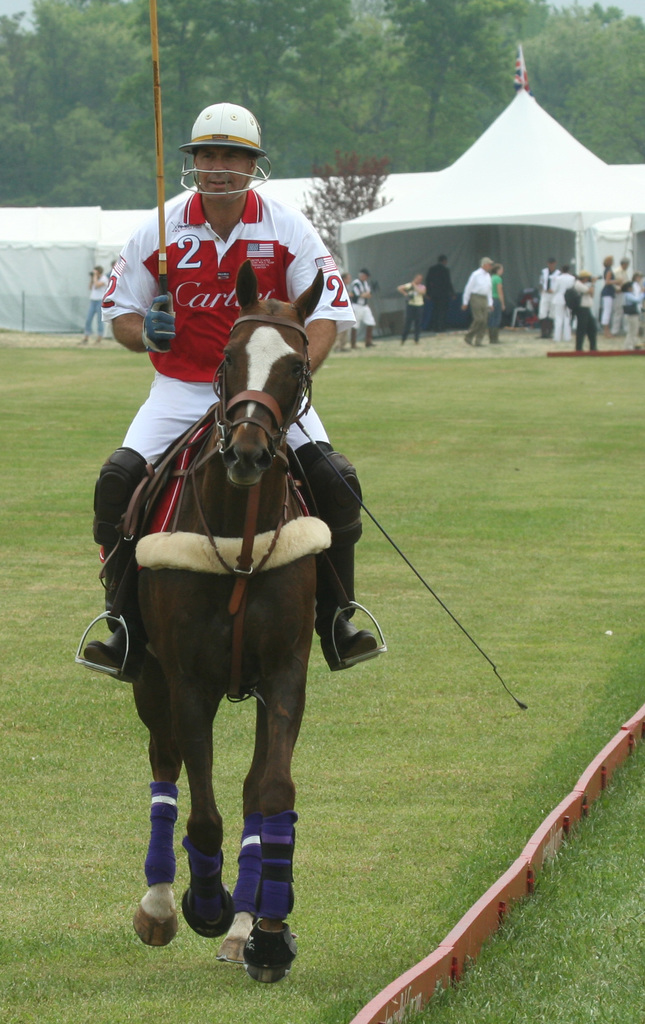horse: (132, 258, 324, 979)
